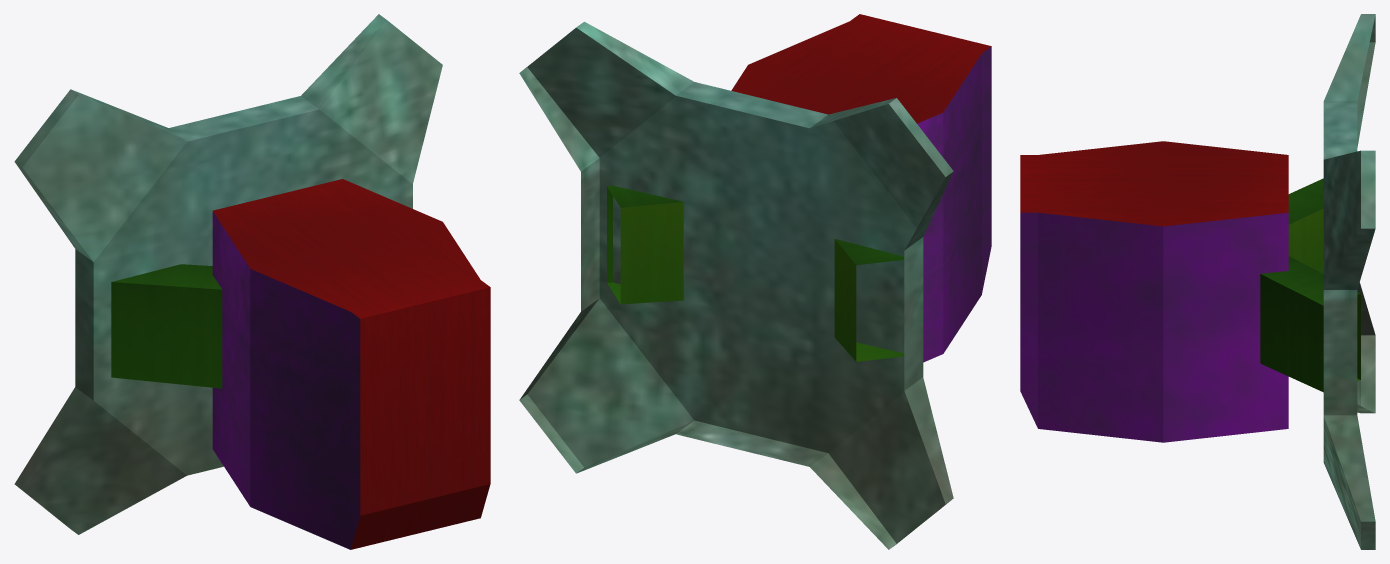
Rendered from TorreTinta2MAISCAFE.fbx.
3 views of the same model, side by side, from view 1: azimuth 30°, elevation 25°; view 2: azimuth 150°, elevation 25°; view 3: azimuth 270°, elevation 25° (orthographic). The views are drawn at different scales.
Visible parts, largest first — view 1: Torre; view 2: Torre; view 3: Torre.
Boxes of the visible parts, x1,y1,x2,y2 form: Torre: (14,14,490,549); Torre: (519,14,991,549); Torre: (1020,14,1375,549).
Size of the model in its own units: 4.11 by 4.11 by 3.32.
